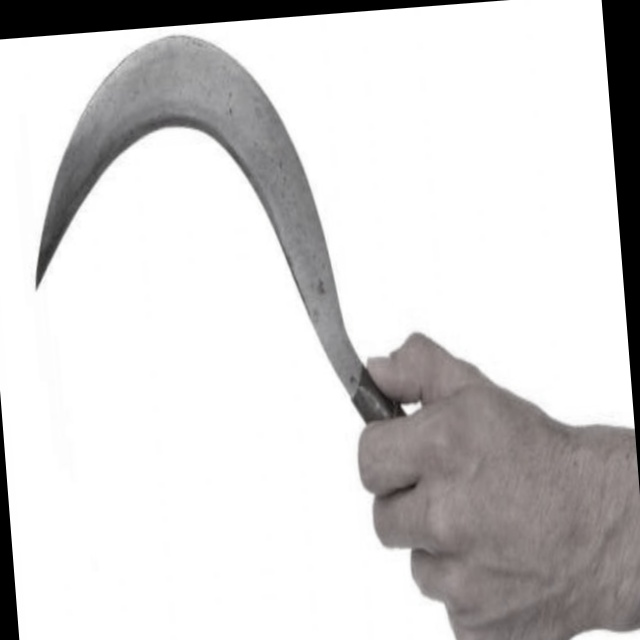Sharp-Object: (0, 11, 438, 476)
